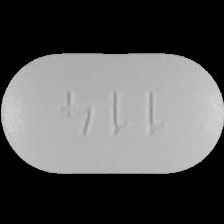0179-0092: (0, 0, 224, 224)
